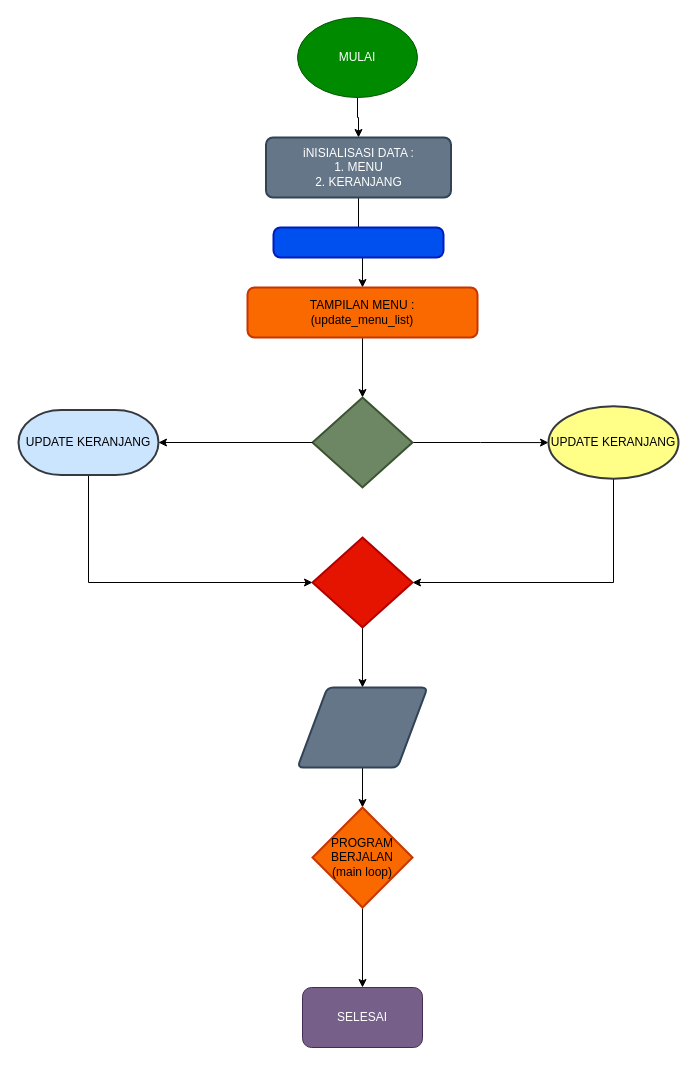
Image size: 696x1065. Some labels were removed from this diagram. Each missing label, with the centre of its shape:
"AKSI USER?" belongs at point (362, 442).
"BUAT WINDOW TKINTER" belongs at point (358, 242).
"HITTUNG TOTAL?" belongs at point (362, 582).
"TAMPILAN TOTAL BAYAR" belongs at point (362, 727).
